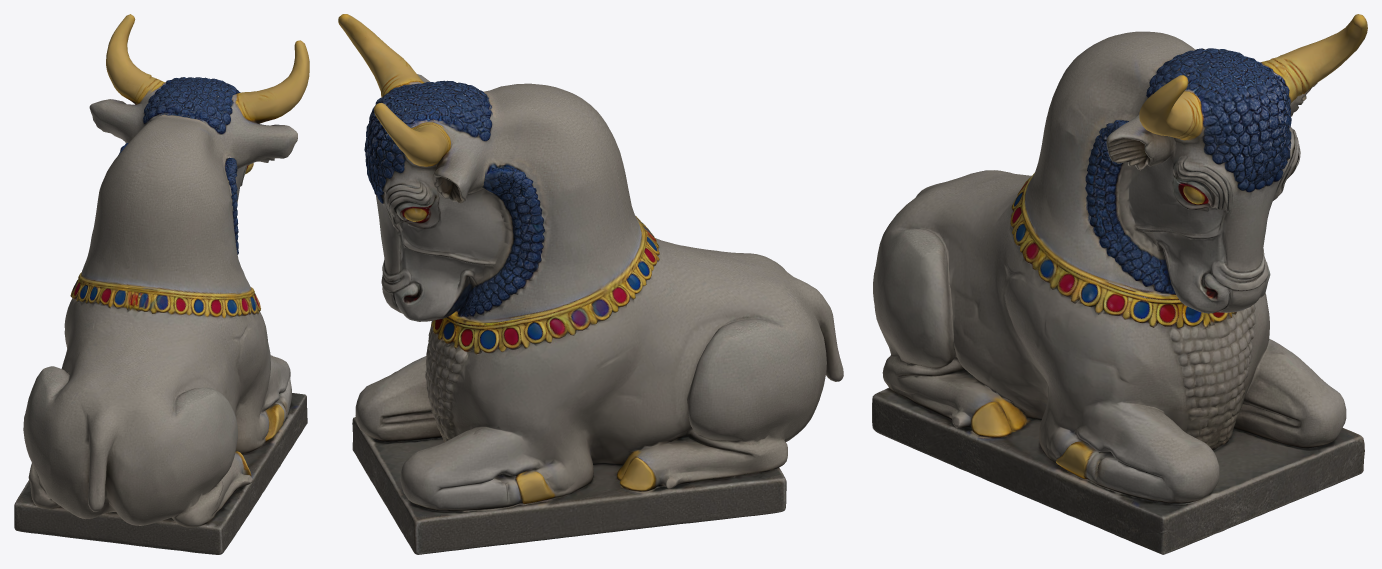
Rendered from hyp-2.glb.
3 views of the same model, side by side, from view 1: azimuth 30°, elevation 25°; view 2: azimuth 150°, elevation 25°; view 3: azimuth 270°, elevation 25° (orthographic). The views are drawn at different scales.
Visible parts, largest first — view 1: tripo_node_2eec3f10-2808-4190-8591-f24078a3350d; view 2: tripo_node_2eec3f10-2808-4190-8591-f24078a3350d; view 3: tripo_node_2eec3f10-2808-4190-8591-f24078a3350d.
Part boxes in pixels (bbox=[...]): tripo_node_2eec3f10-2808-4190-8591-f24078a3350d: bbox=[14, 14, 309, 554]; tripo_node_2eec3f10-2808-4190-8591-f24078a3350d: bbox=[338, 14, 843, 554]; tripo_node_2eec3f10-2808-4190-8591-f24078a3350d: bbox=[872, 14, 1367, 554].
Size of the model in its own units: 0.9314 by 1 by 0.9359.
1 material, 1 textured.
